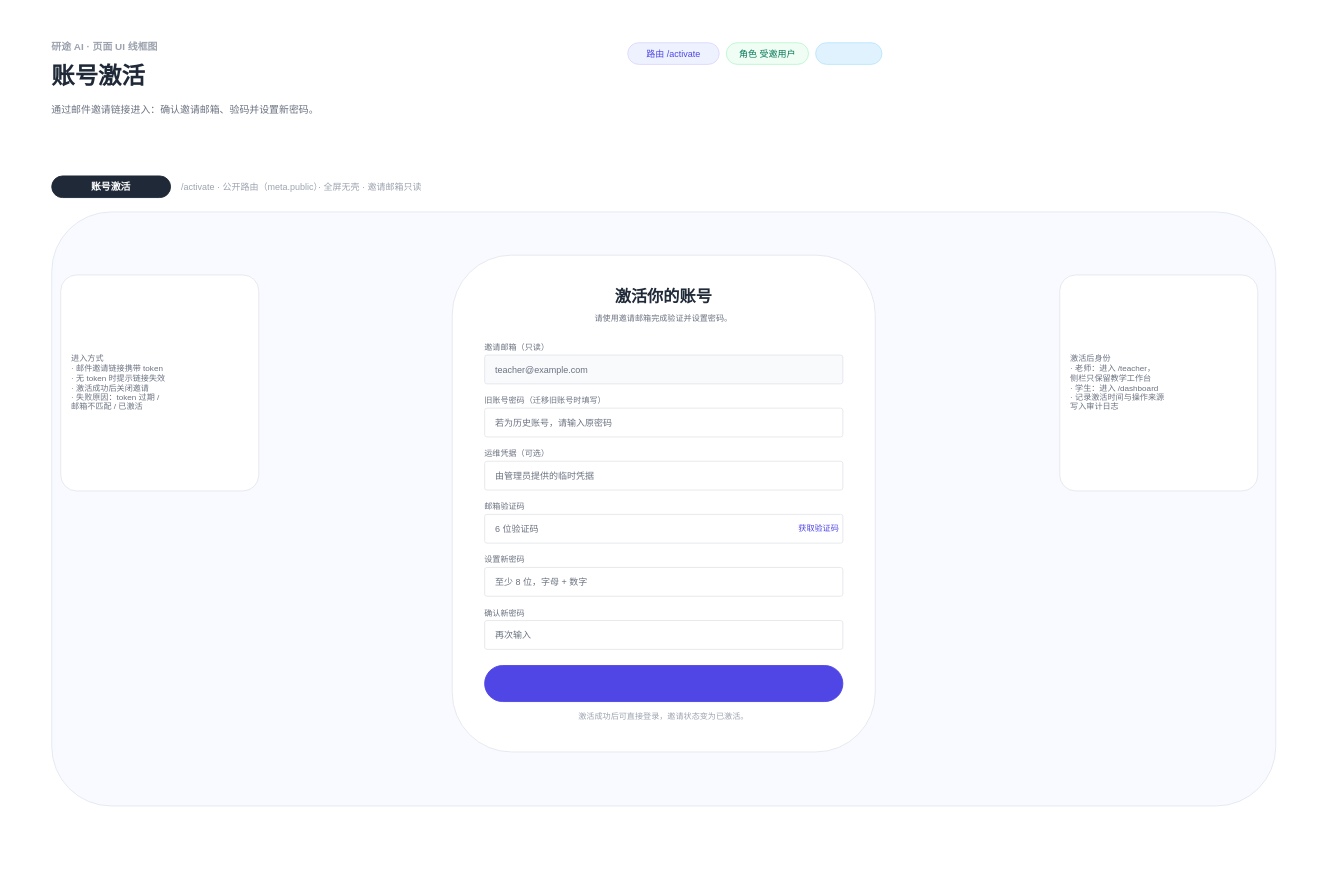
The diagram is 1328 pixels wide and 869 high, and some of its shapes have lost their labels. The shapes that lost their labels are listed below. From the top down, each one's centre as x and y in pixels, then its label:
At point 848,53: "模式 live".
At point 663,683: "完成激活".
